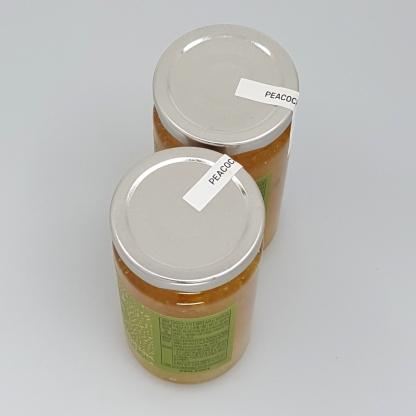------------420G: (108, 147, 265, 385), (151, 24, 300, 255)
